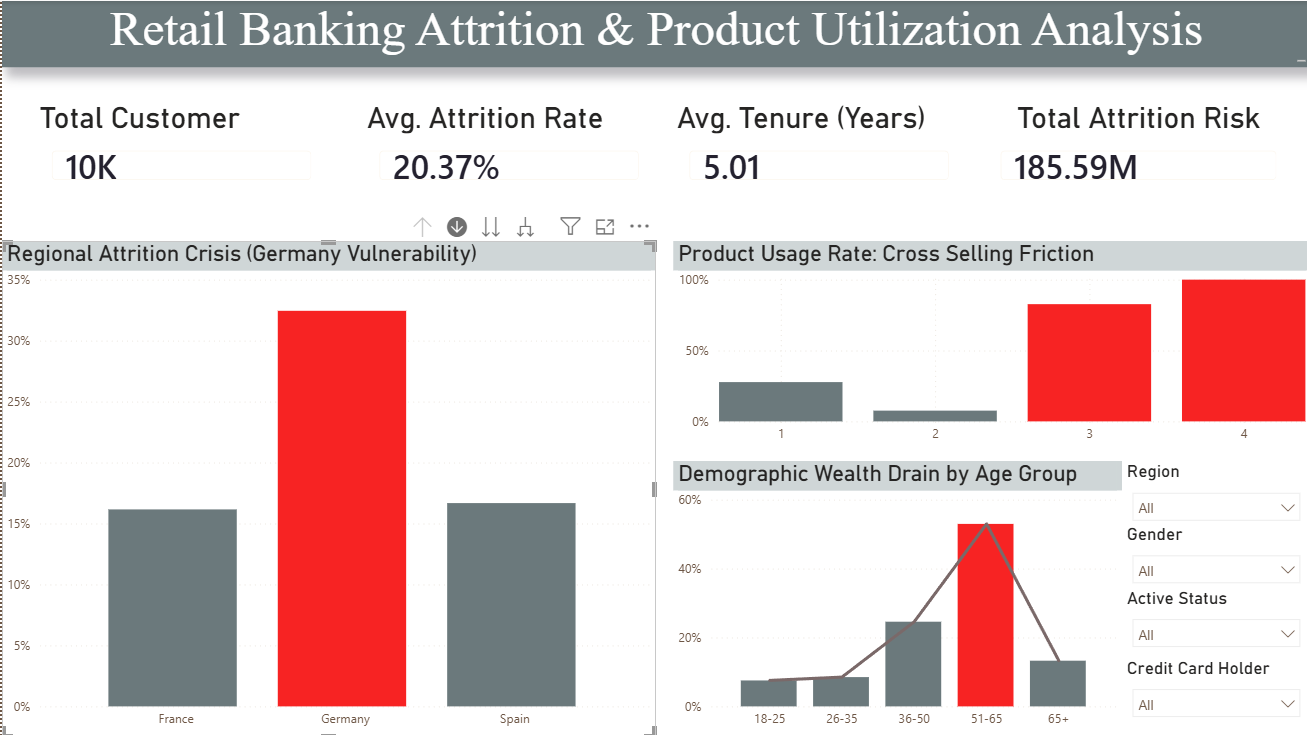

This screenshot's page, from the dashboard's own definition file:
{"tool":"powerbi","page":{"name":"Page 1","canvas":[1280,720],"ordinal":0},"visuals":[{"type":"textbox","title":"Retail Banking Attrition & Product Utilization Analysis","box":[0,0,1280.3,64.5],"z":0},{"type":"cardVisual","title":"Total Customer","fields":{"Data":["Count(bank_churn dim_account.customer_id)"]},"box":[32,96,288,96],"z":1000},{"type":"cardVisual","title":"Avg. Attrition Rate","fields":{"Data":["Avg(bank_churn fact_churn.churn)"]},"box":[352,96,288,96],"z":2000},{"type":"cardVisual","title":"Avg. Tenure (Years)","fields":{"Data":["Avg(bank_churn fact_churn.tenure)"]},"box":[656,96,288,96],"z":3000},{"type":"cardVisual","title":"Total Attrition Risk","fields":{"Data":["Sum(bank_churn fact_churn.Revenue_lost)"]},"box":[960,96,304,96],"z":4000},{"type":"lineClusteredColumnComboChart","title":"Demographic Wealth Drain by Age Group","fields":{"Category":["bank_churn dim_customer.Age Category"],"Y":["Avg(bank_churn fact_churn.churn)"],"Y2":["Avg(bank_churn fact_churn.churn)"]},"box":[656.7,450,439,270.2],"z":5000},{"type":"columnChart","title":"Regional Attrition Crisis (Germany Vulnerability)","fields":{"Category":["bank_churn dim_customer.country","bank_churn dim_customer.gender"],"Y":["Avg(bank_churn fact_churn.churn)"]},"box":[0,234.8,639.5,485.5],"z":6000},{"type":"slicer","title":"Region","fields":{"Values":["bank_churn dim_customer.country"]},"box":[1095.7,450,184.6,61.1],"z":7000},{"type":"slicer","title":"Gender","fields":{"Values":["bank_churn dim_customer.gender"]},"box":[1095.7,511.1,184.6,62.4],"z":8000},{"type":"slicer","title":"Active Status","fields":{"Values":["bank_churn dim_account.active_member"]},"box":[1095.7,573.5,184.6,68.5],"z":9000},{"type":"slicer","title":"Credit Card Holder","fields":{"Values":["bank_churn dim_account.credit_card"]},"box":[1095.7,642,184.6,78.3],"z":10000},{"type":"clusteredColumnChart","title":"Product Usage Rate: Cross Selling Friction","fields":{"Category":["bank_churn dim_account.products_number"],"Y":["Avg(bank_churn fact_churn.churn)"]},"box":[656.7,234.8,623.6,206.7],"z":11000}]}

Visuals, with their boxes on the page's 1280x720 design canvas (x1, y1, x2, y2). These are canvas units, not pixel positions in the 1307x735 screenshot, which may show the page scaled, cropped or inside an application window:
"Retail Banking Attrition & Product Utilization Analysis" textbox: locate(0, 0, 1280, 64)
"Total Customer" cardVisual: locate(32, 96, 320, 192)
"Avg. Attrition Rate" cardVisual: locate(352, 96, 640, 192)
"Avg. Tenure (Years)" cardVisual: locate(656, 96, 944, 192)
"Total Attrition Risk" cardVisual: locate(960, 96, 1264, 192)
"Demographic Wealth Drain by Age Group" lineClusteredColumnComboChart: locate(657, 450, 1096, 720)
"Regional Attrition Crisis (Germany Vulnerability)" columnChart: locate(0, 235, 640, 720)
"Region" slicer: locate(1096, 450, 1280, 511)
"Gender" slicer: locate(1096, 511, 1280, 574)
"Active Status" slicer: locate(1096, 574, 1280, 642)
"Credit Card Holder" slicer: locate(1096, 642, 1280, 720)
"Product Usage Rate: Cross Selling Friction" clusteredColumnChart: locate(657, 235, 1280, 442)
